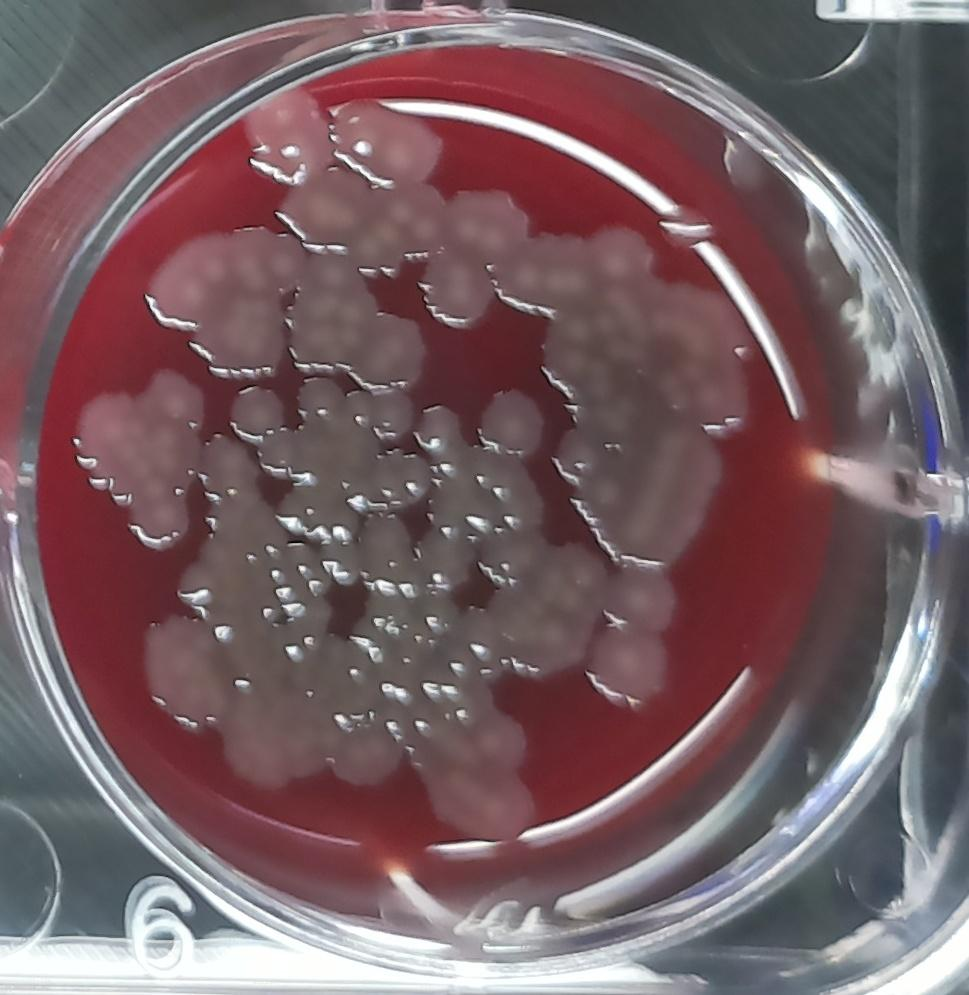vproteolyticus: (520, 220, 758, 563), (67, 358, 211, 559), (138, 216, 291, 376), (127, 608, 227, 737), (332, 90, 458, 183), (242, 81, 332, 189), (582, 622, 674, 711), (417, 240, 503, 330), (346, 308, 428, 393), (591, 559, 683, 634), (471, 383, 547, 461), (329, 714, 404, 789), (220, 380, 284, 440), (408, 399, 467, 461)
